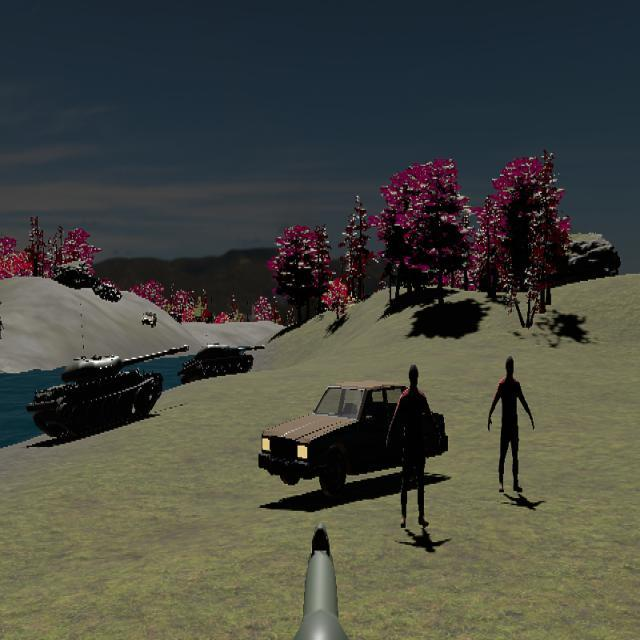Tank: (25, 343, 191, 441), (178, 342, 265, 384)
car: (257, 380, 449, 498)
